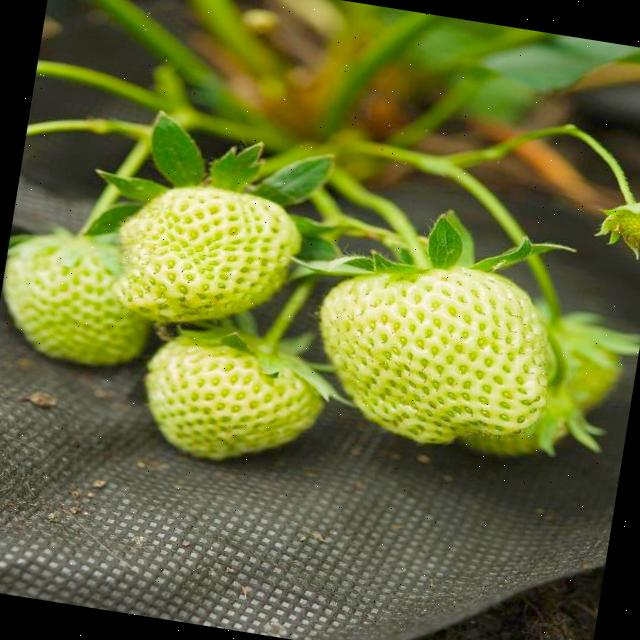strawberry: (302, 241, 558, 460), (104, 170, 304, 340), (136, 318, 330, 472), (0, 219, 159, 371)
